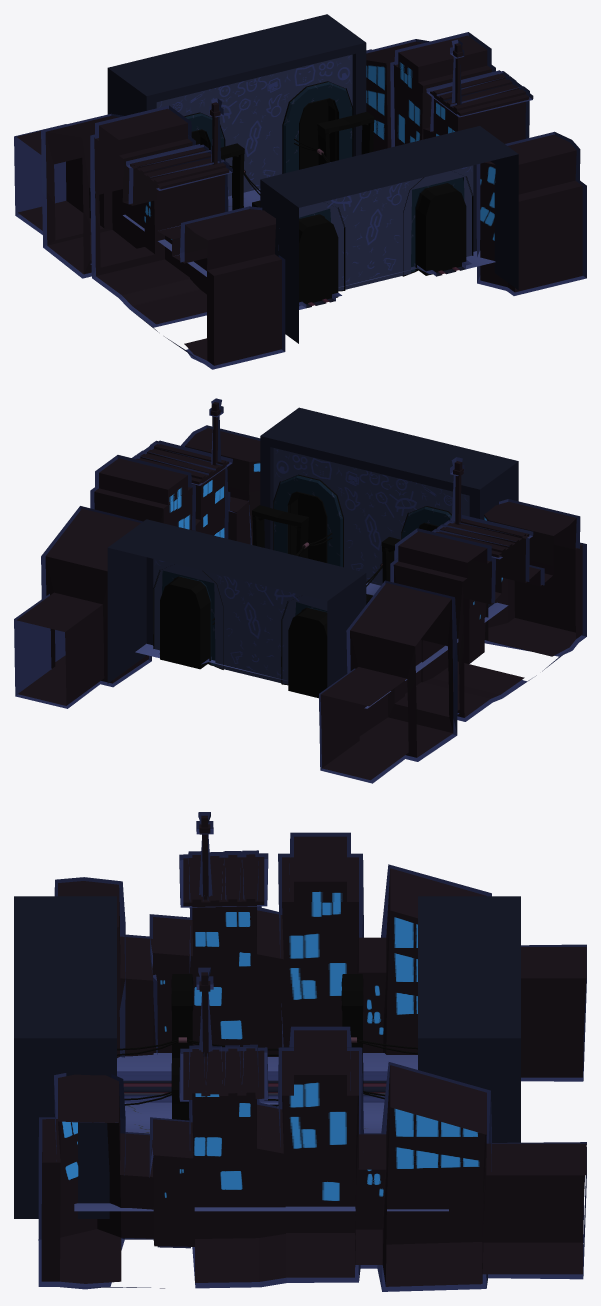
Rendered from Week3Map.fbx.
The picture shows the model from 3 angles, top to bottom: view 1: azimuth 30°, elevation 25°; view 2: azimuth 150°, elevation 25°; view 3: azimuth 270°, elevation 25°; orthographic projection. The views are drawn at different scales.
Parts seen in each view (by area): view 1: Map, Cell Shading; view 2: Map, Cell Shading; view 3: Map, Cell Shading.
Boxes of the visible parts, box(x1,y1,x2,y2) form: Map: box(16, 14, 582, 365); Cell Shading: box(14, 32, 586, 369); Map: box(16, 402, 582, 780); Cell Shading: box(14, 398, 586, 783); Map: box(14, 815, 586, 1286); Cell Shading: box(38, 812, 586, 1291).
Size of the model in its own units: 7846 by 4144 by 7712.
Materials: 2 (2 with a texture image).
